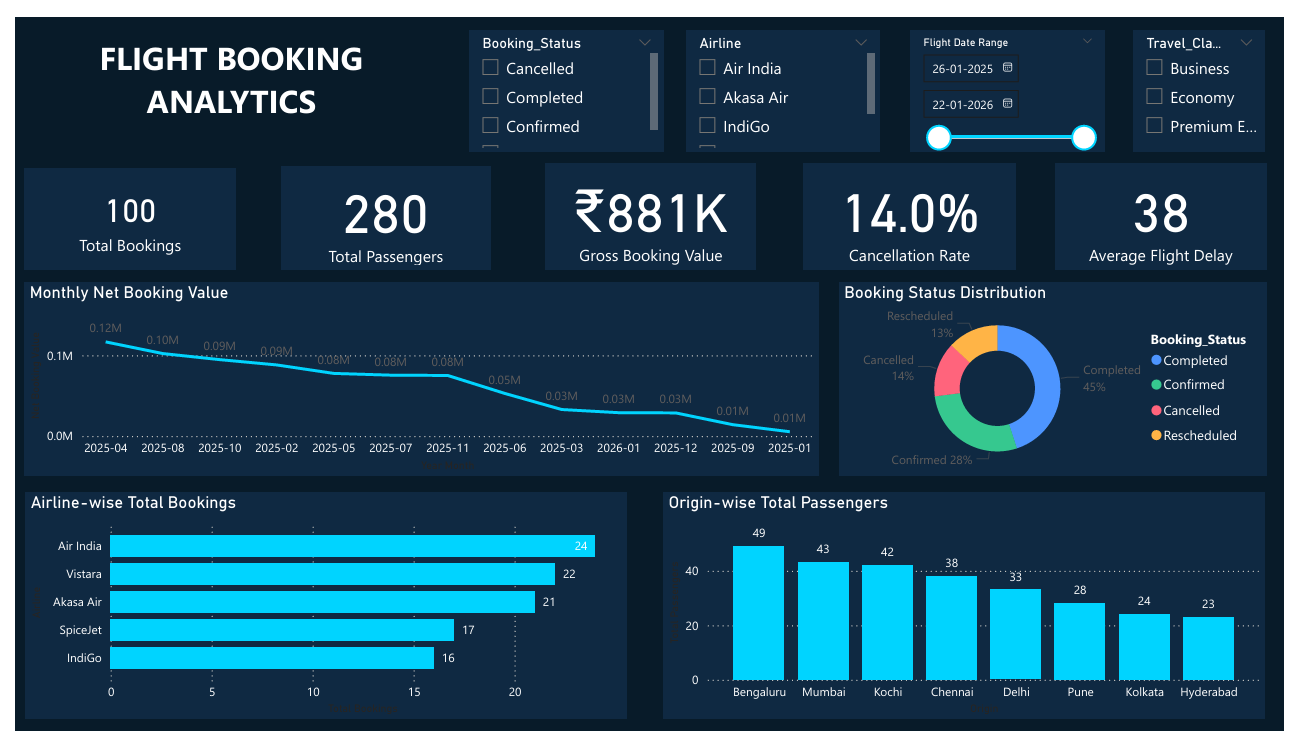

What the dashboard file says about the page in this screenshot:
{"tool":"powerbi","page":{"name":"FLIGHT BOOKING ANALYTICS","canvas":[1280,720],"ordinal":0},"visuals":[{"type":"textbox","box":[9.7,12.5,415.4,123.6],"z":0},{"type":"card","fields":{"Values":["FlightBookings.Total Bookings"]},"box":[9.3,151.9,212.4,102.3],"z":1000},{"type":"card","fields":{"Values":["FlightBookings.Cancellation Rate"]},"box":[795.2,147.3,213.9,107],"z":2000},{"type":"card","fields":{"Values":["FlightBookings.Average Flight Delay"]},"box":[1049.5,147.3,212.4,107],"z":3000},{"type":"card","fields":{"Values":["FlightBookings.Total Passengers"]},"box":[268.2,150.4,210.8,103.9],"z":4000},{"type":"card","fields":{"Values":["FlightBookings.Gross Booking Value"]},"box":[534.8,147.3,212.4,107],"z":5000},{"type":"lineChart","title":"\tMonthly Net Booking Value","fields":{"Category":["DimFlightDate.Year Month"],"Y":["FlightBookings.Net Booking Value"]},"box":[9.3,266.6,801.5,195.3],"z":6000},{"type":"donutChart","title":"Booking Status Distribution","fields":{"Category":["FlightBookings.Booking_Status"],"Y":["FlightBookings.Total Bookings"]},"box":[830.9,266.6,431,195.3],"z":7000},{"type":"clusteredBarChart","title":"Airline-wise Total Bookings","fields":{"Category":["FlightBookings.Airline"],"Y":["FlightBookings.Total Bookings"]},"box":[9.7,479.3,607.1,229.2],"z":8000},{"type":"clusteredColumnChart","title":"Origin-wise Total Passengers","fields":{"Category":["FlightBookings.Origin"],"Y":["FlightBookings.Total Passengers"]},"box":[654.3,479.3,607.1,229.2],"z":9000},{"type":"slicer","fields":{"Values":["FlightBookings.Airline"]},"box":[676.5,12.5,195.9,123.6],"z":10000},{"type":"slicer","fields":{"Values":["DimFlightDate.Date"]},"box":[903,12.5,195.9,123.6],"z":11000},{"type":"slicer","fields":{"Values":["FlightBookings.Travel_Class"]},"box":[1128,12.5,133.4,123.6],"z":12000},{"type":"slicer","fields":{"Values":["FlightBookings.Booking_Status"]},"box":[458.4,12.5,195.9,123.6],"z":13000}]}

Visuals, with their boxes in screenshot pixels (x1, y1, x2, y2), scaled from the page's 1280x720 canvas onto the 1302x747 screenshot:
textbox: [10,13,432,141]
card - FlightBookings.Total Bookings: [9,158,226,264]
card - FlightBookings.Cancellation Rate: [809,153,1026,264]
card - FlightBookings.Average Flight Delay: [1068,153,1284,264]
card - FlightBookings.Total Passengers: [273,156,487,264]
card - FlightBookings.Gross Booking Value: [544,153,760,264]
"	Monthly Net Booking Value" lineChart: [9,277,825,479]
"Booking Status Distribution" donutChart: [845,277,1284,479]
"Airline-wise Total Bookings" clusteredBarChart: [10,497,627,735]
"Origin-wise Total Passengers" clusteredColumnChart: [666,497,1283,735]
slicer - FlightBookings.Airline: [688,13,887,141]
slicer - DimFlightDate.Date: [919,13,1118,141]
slicer - FlightBookings.Travel_Class: [1147,13,1283,141]
slicer - FlightBookings.Booking_Status: [466,13,666,141]
